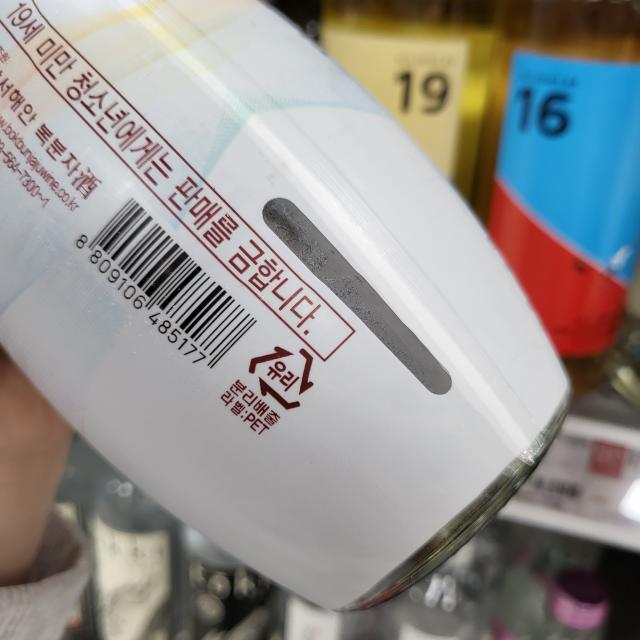Glass: (246, 341, 322, 412)
